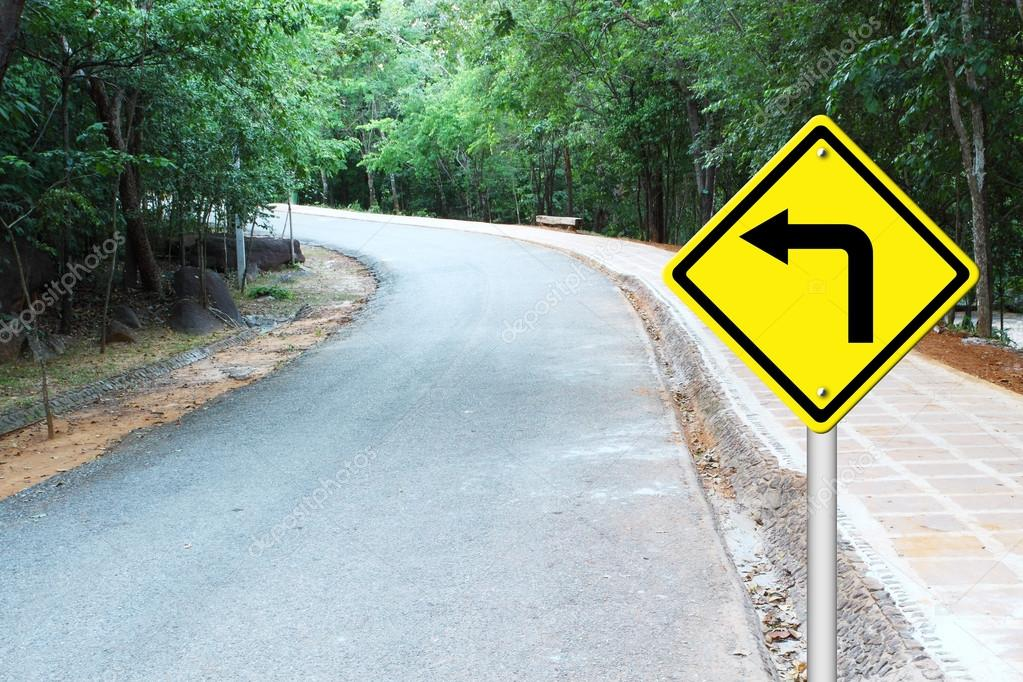left: (659, 108, 982, 440)
